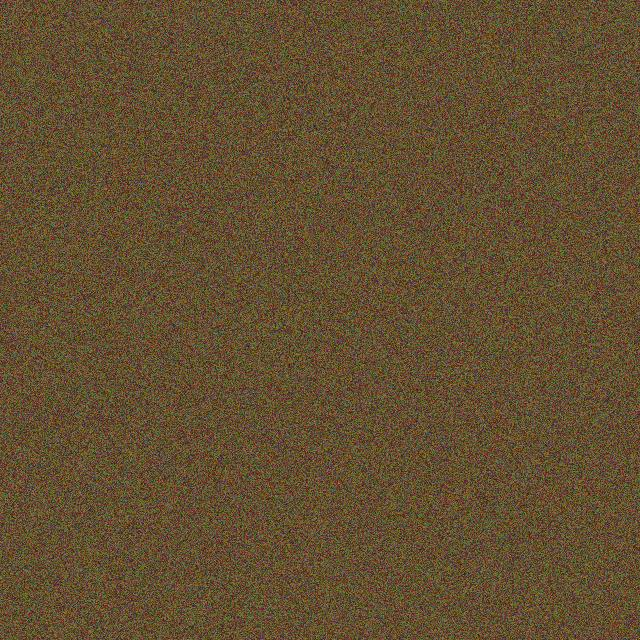ghost_net: (377, 294, 460, 365)
